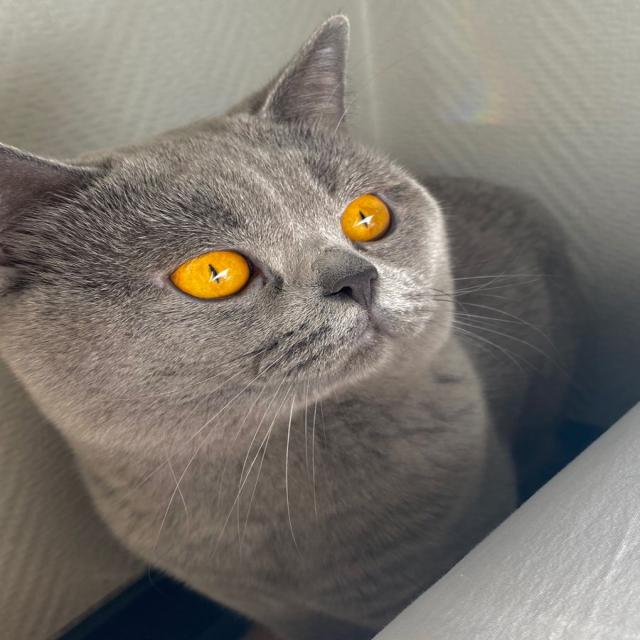british shorthair: (0, 15, 583, 639)
